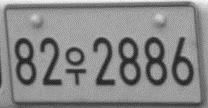2: (91, 36, 116, 85), (38, 36, 62, 85)
6: (171, 36, 194, 86)
8: (117, 36, 141, 85), (144, 36, 167, 85), (14, 37, 36, 84)
우: (64, 46, 87, 85)
